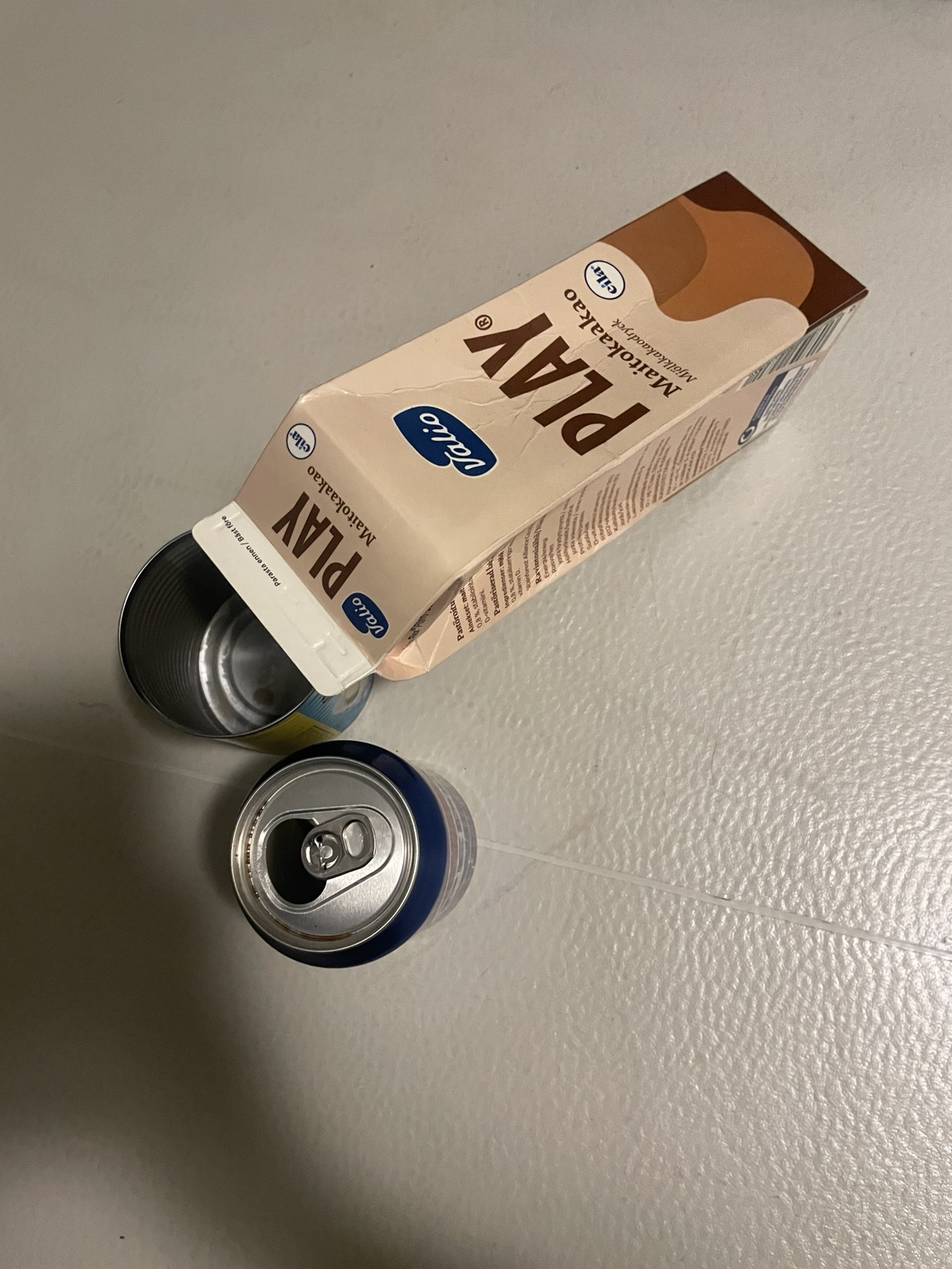konservburk: (118, 533, 389, 755)
pantburk: (772, 122, 952, 838), (229, 741, 474, 969)
